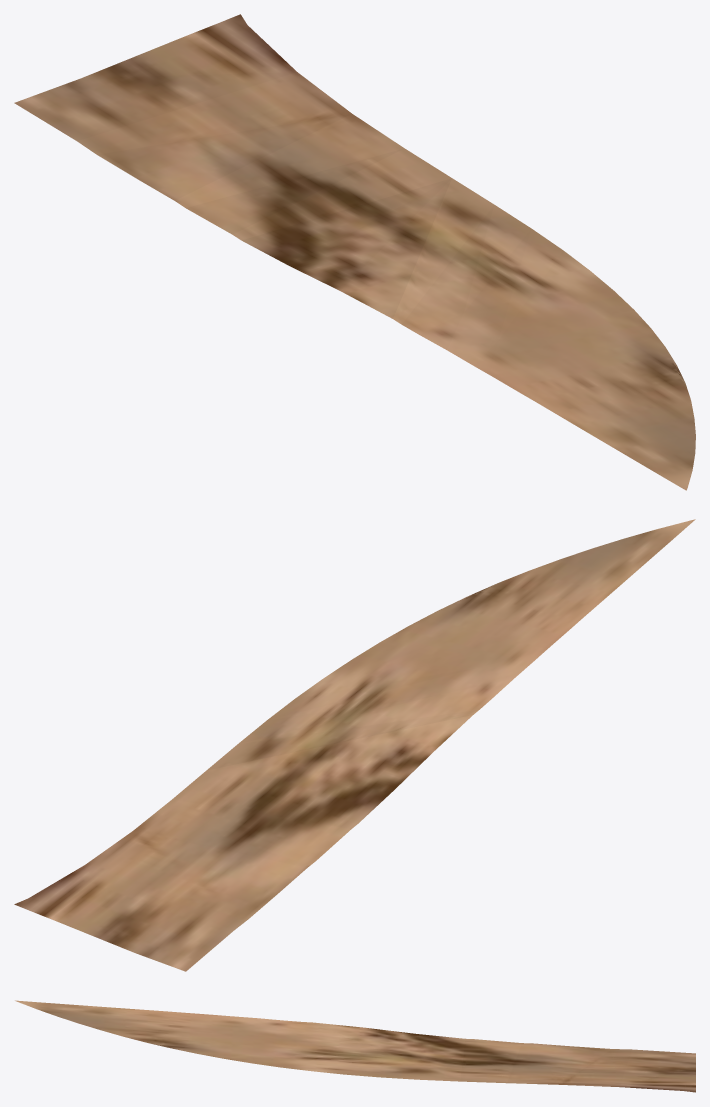
3 views of the same model, one above another, from view 1: azimuth 30°, elevation 25°; view 2: azimuth 150°, elevation 25°; view 3: azimuth 270°, elevation 25° (orthographic). The views are drawn at different scales.
Size of the model in its own units: 0.7948 by 0.3501 by 4.08.
Materials: 1 (1 with a texture image).
